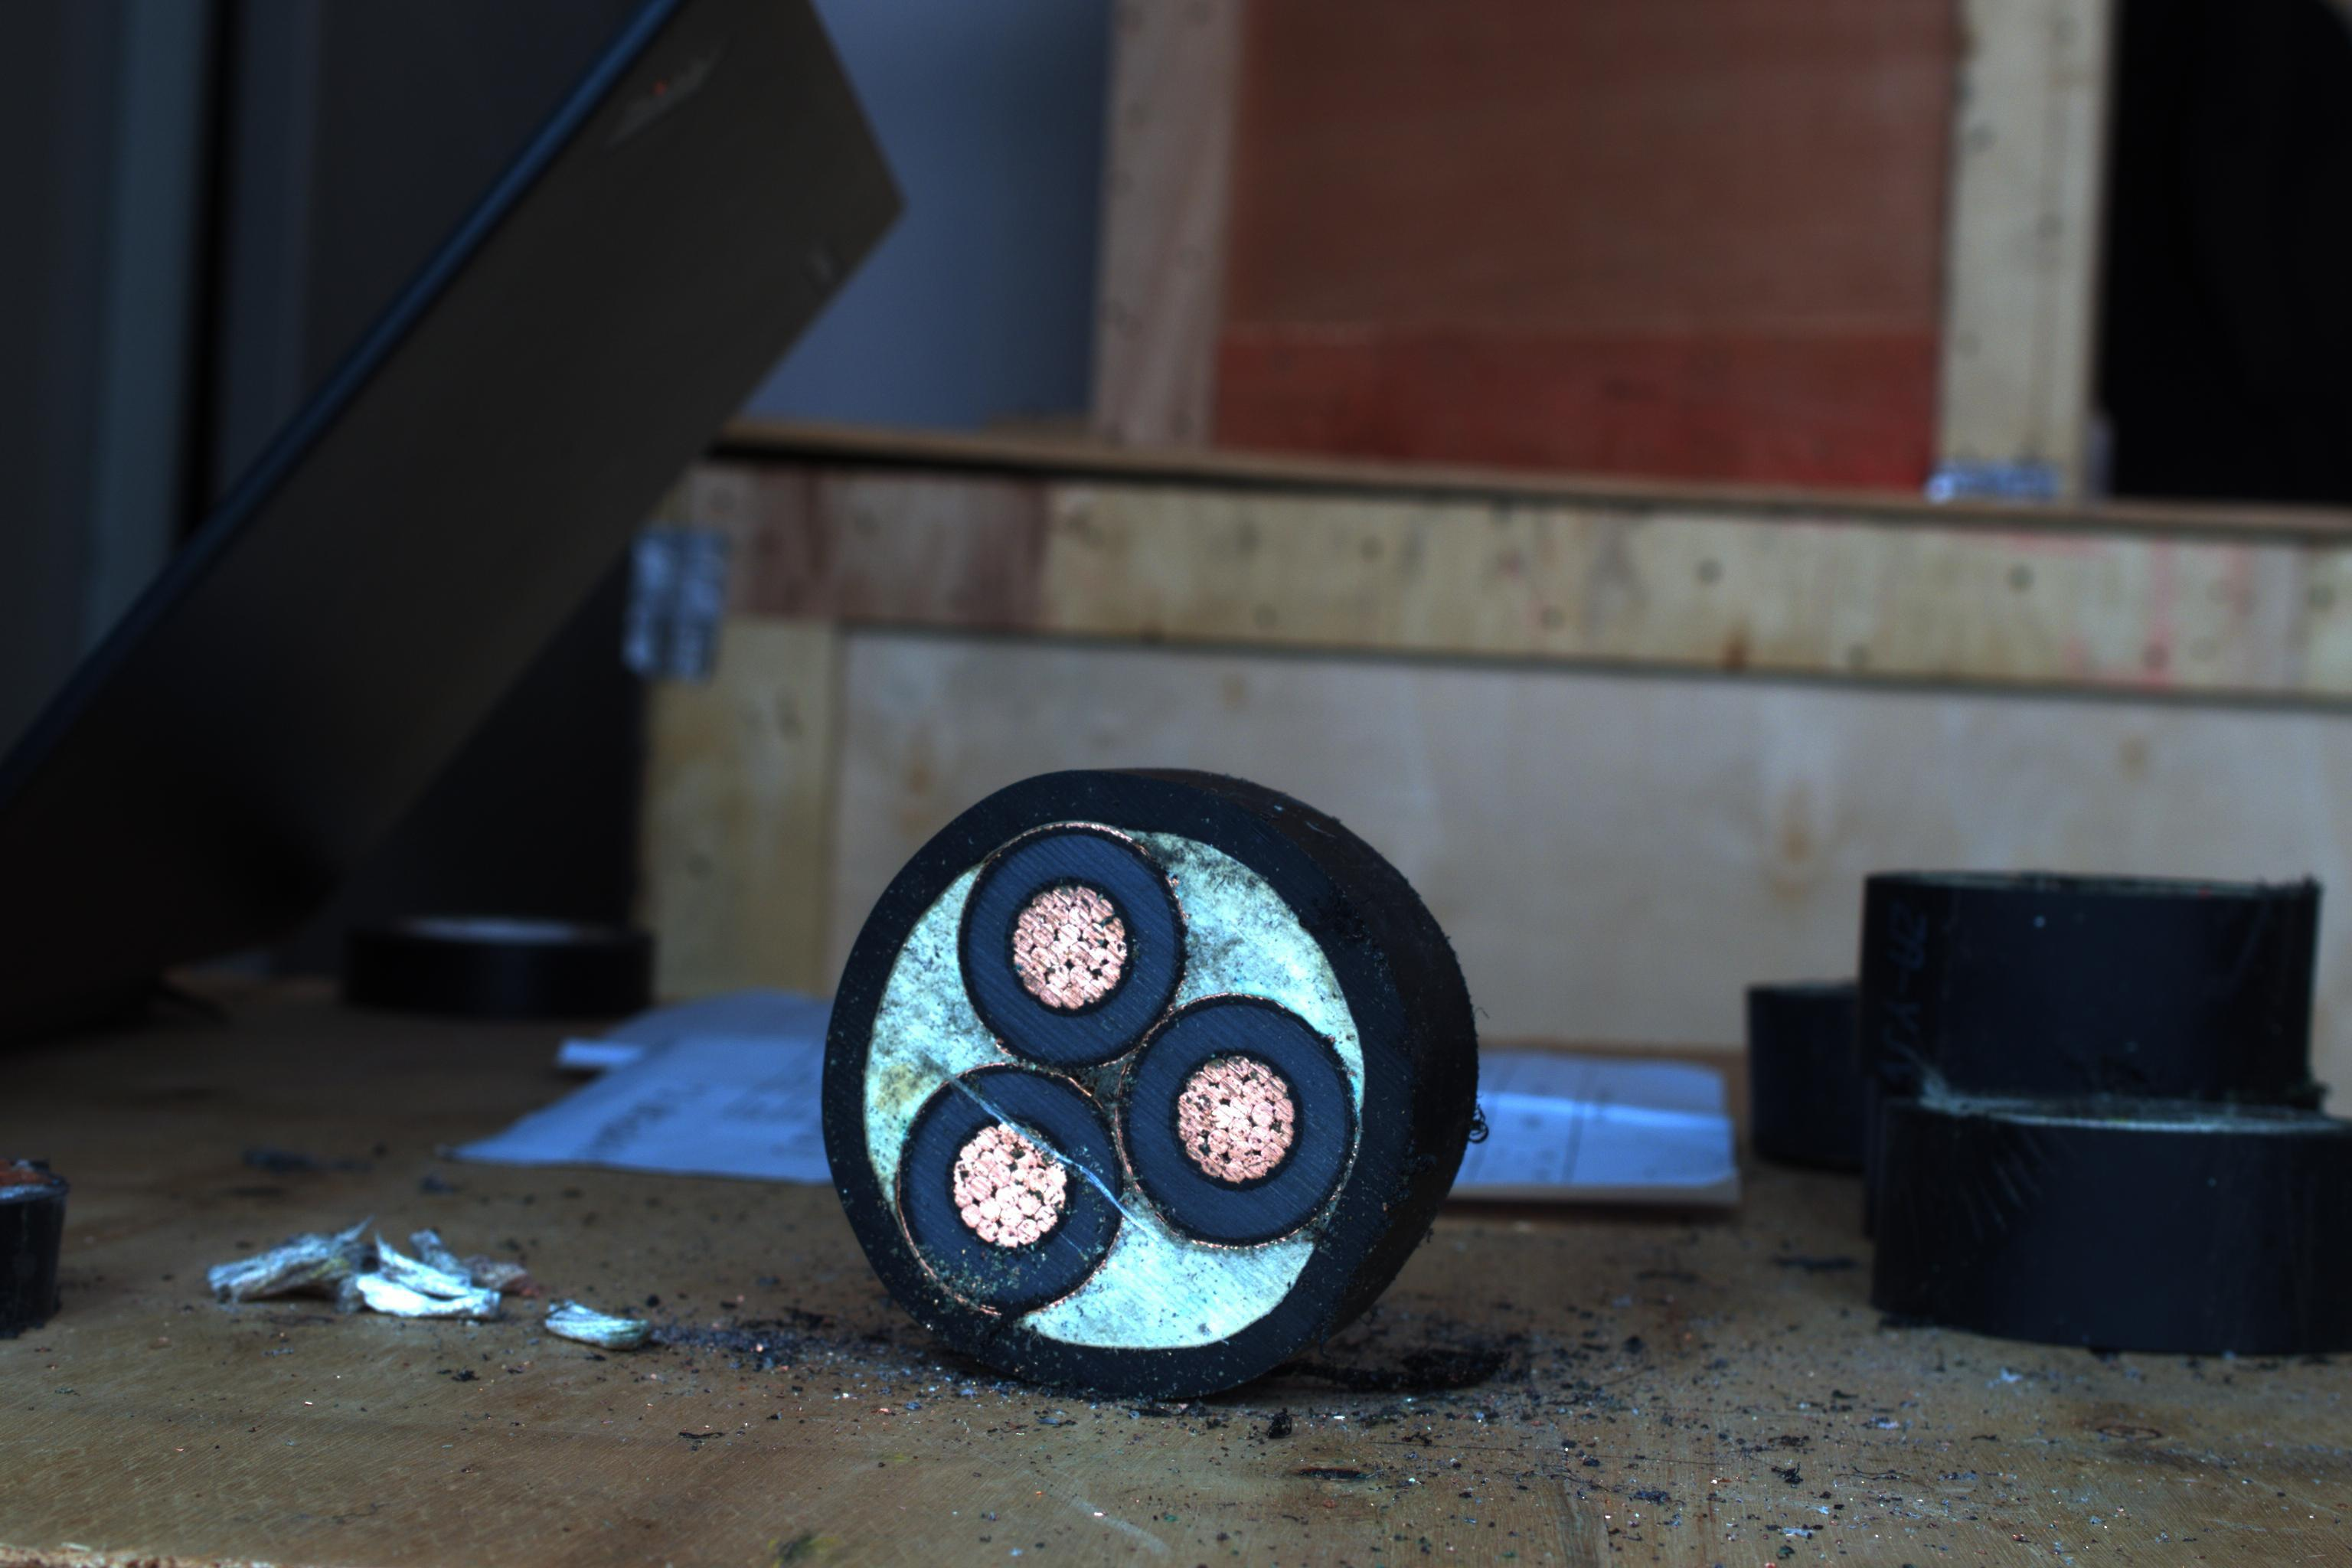ZA_YJV_8.7_10kV_3x120: (805, 794, 1407, 1374)
